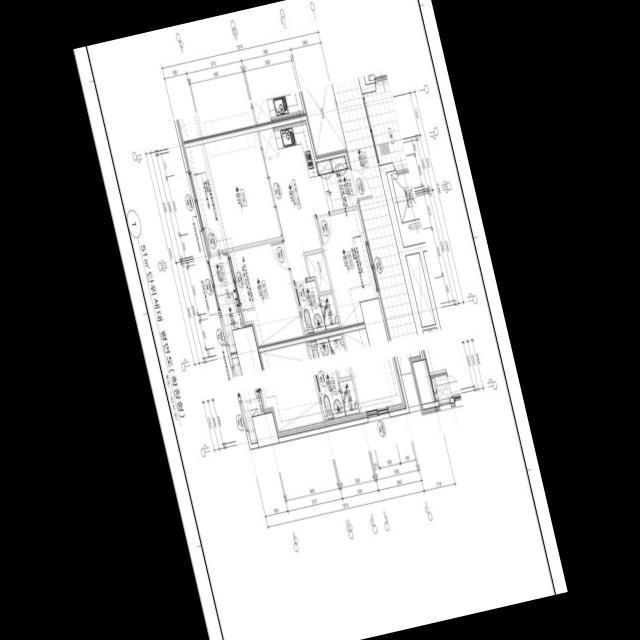background: (73, 0, 567, 640)
space_balconi: (208, 254, 245, 355)
space_bedroom: (229, 240, 304, 348), (316, 209, 377, 329)
space_elevator: (386, 167, 425, 247)
space_elevator_hall: (331, 77, 417, 341), (363, 88, 405, 165)
space_front: (314, 155, 356, 212)
space_kitchen: (258, 120, 326, 280)
space_living_room: (183, 131, 280, 253)
space_other: (405, 252, 435, 327), (305, 109, 346, 159), (305, 252, 331, 292)
space_toilet: (294, 280, 339, 334)
